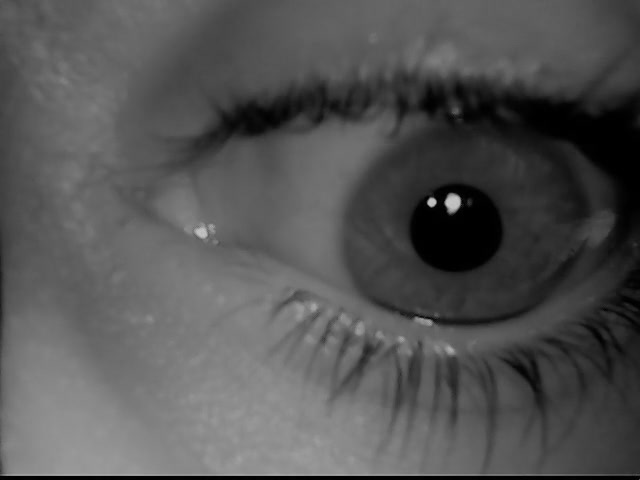PUPIL: (396, 173, 511, 281)
